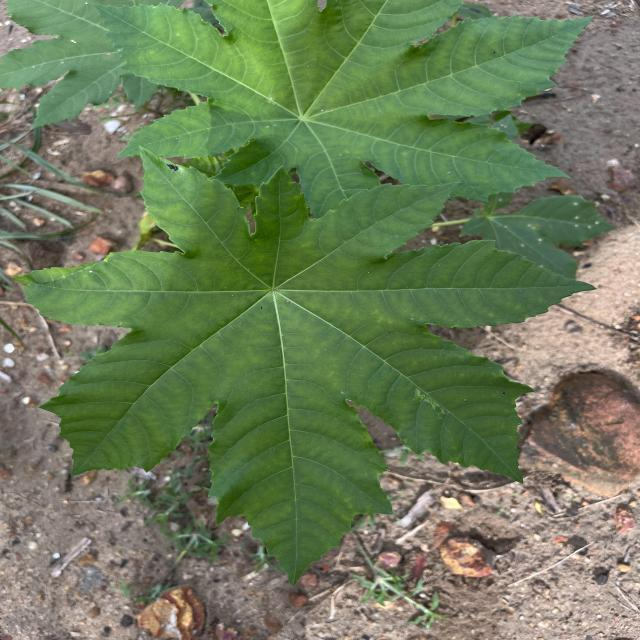Ricinus communis linn: (6, 138, 604, 592)
